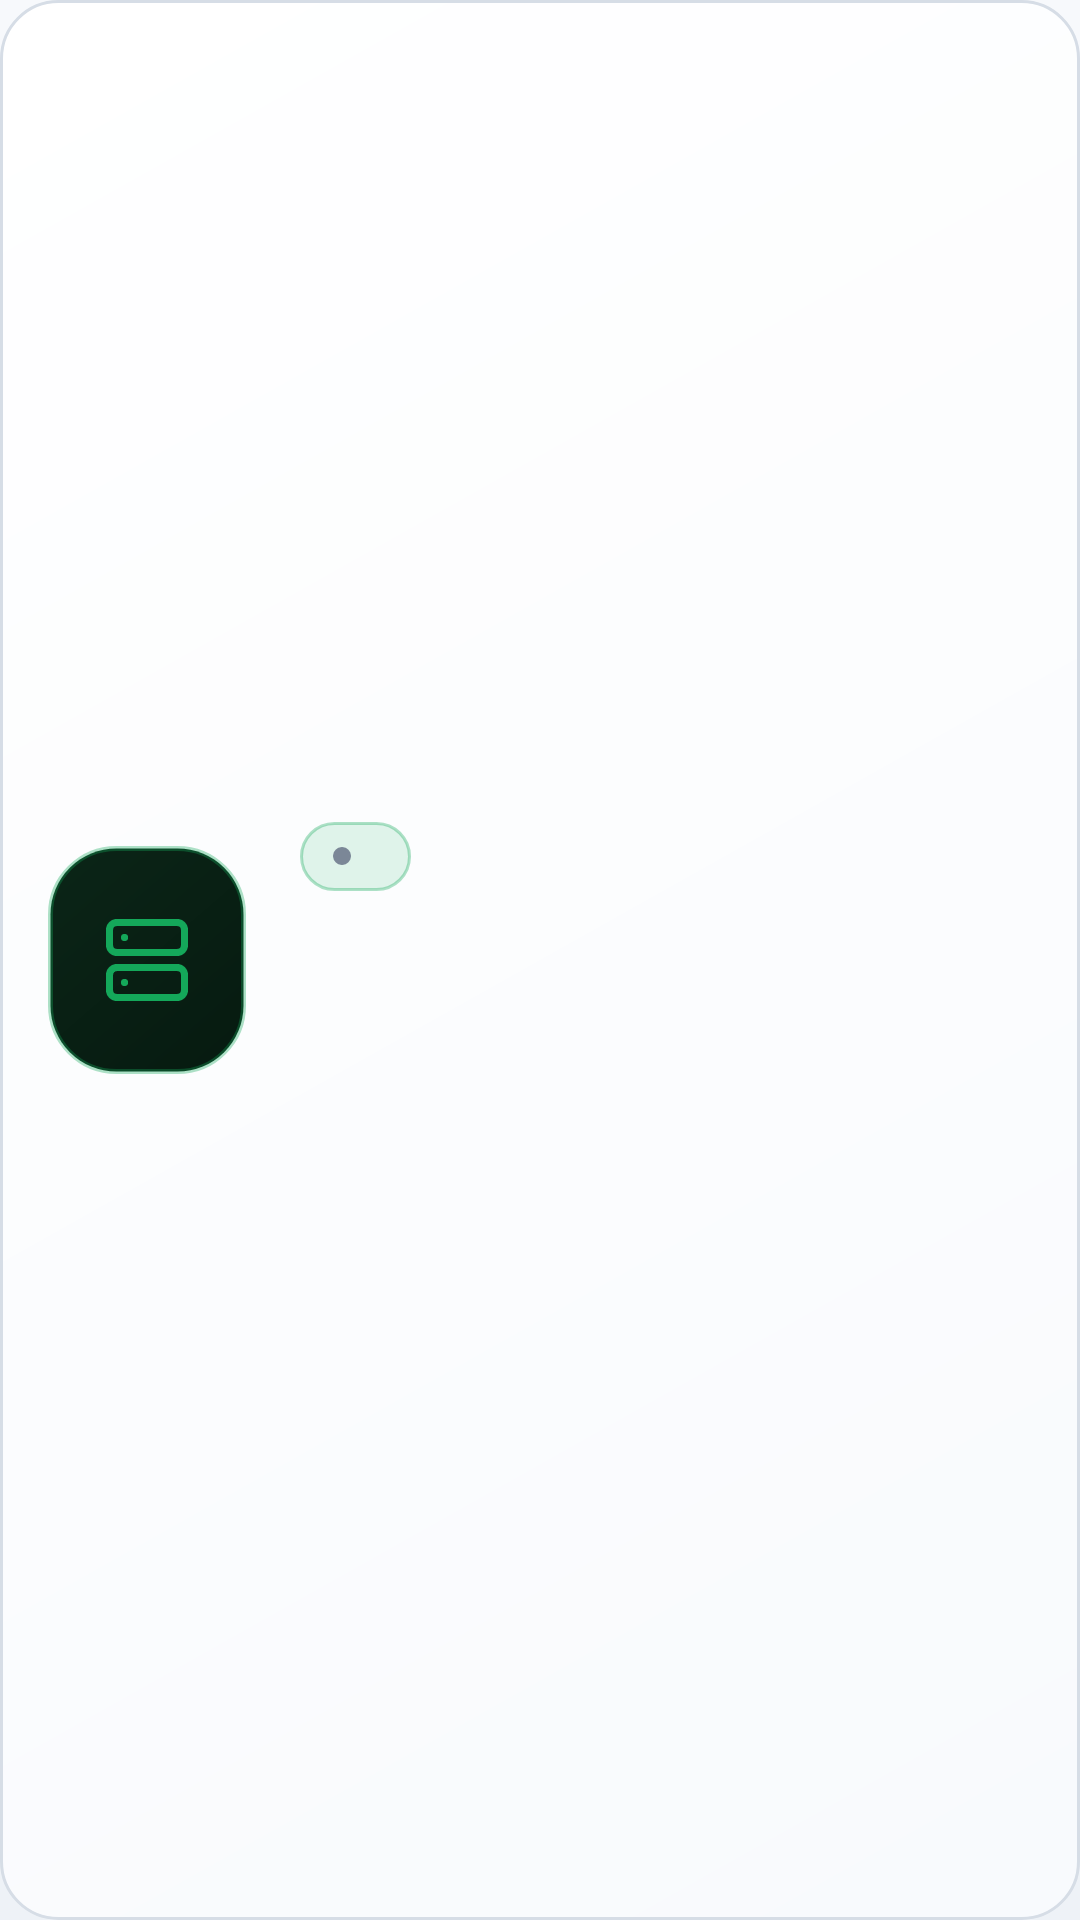

Icon click points for this 1080w x 1920h phone screenshot, format [x,y]:
Machine: [147,960]
